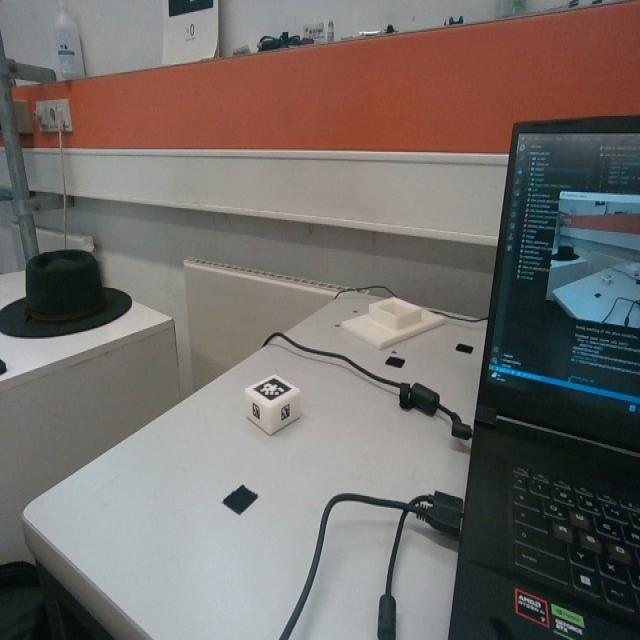Cube: (243, 372, 300, 435)
